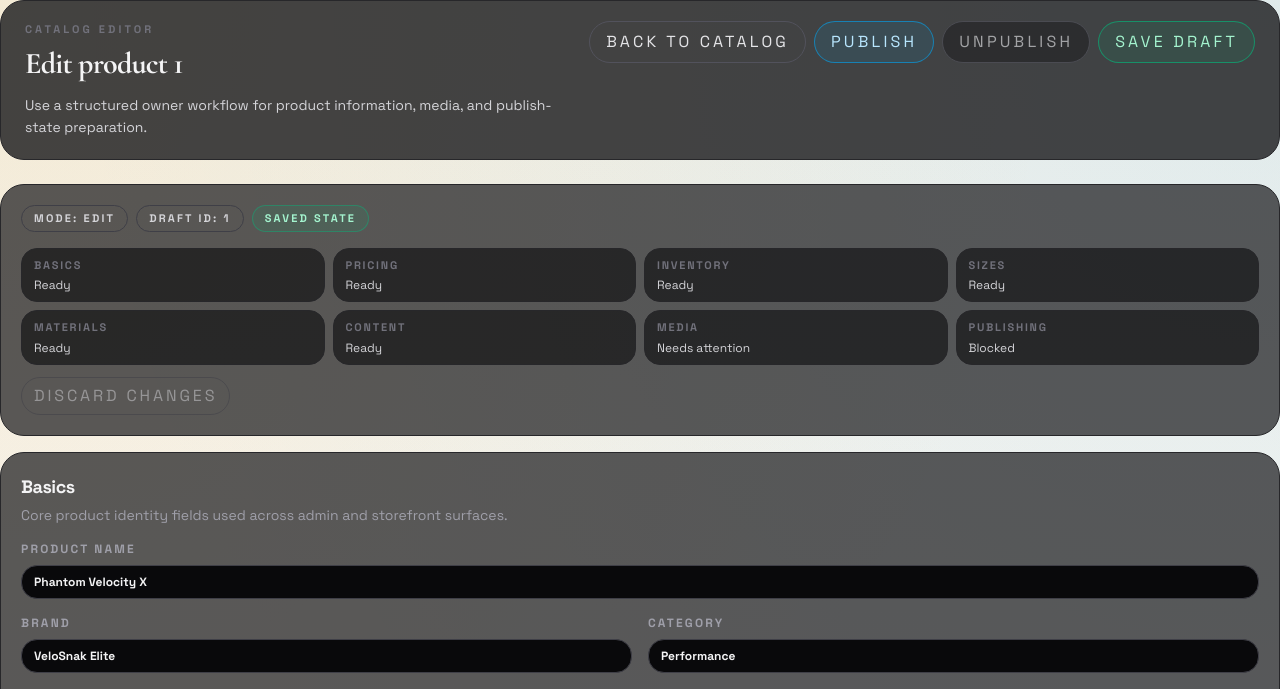
Test case: AdminCatalogEditorPage › blocks publishing when publish-readiness has blocking issues
This screenshot has width=1280, height=689.
Expected: the text "Draft ID: 1" is shown, [136,205,244,232]
Step 1. Click the button "Publish" → click(874, 42), box [814,21,934,63]
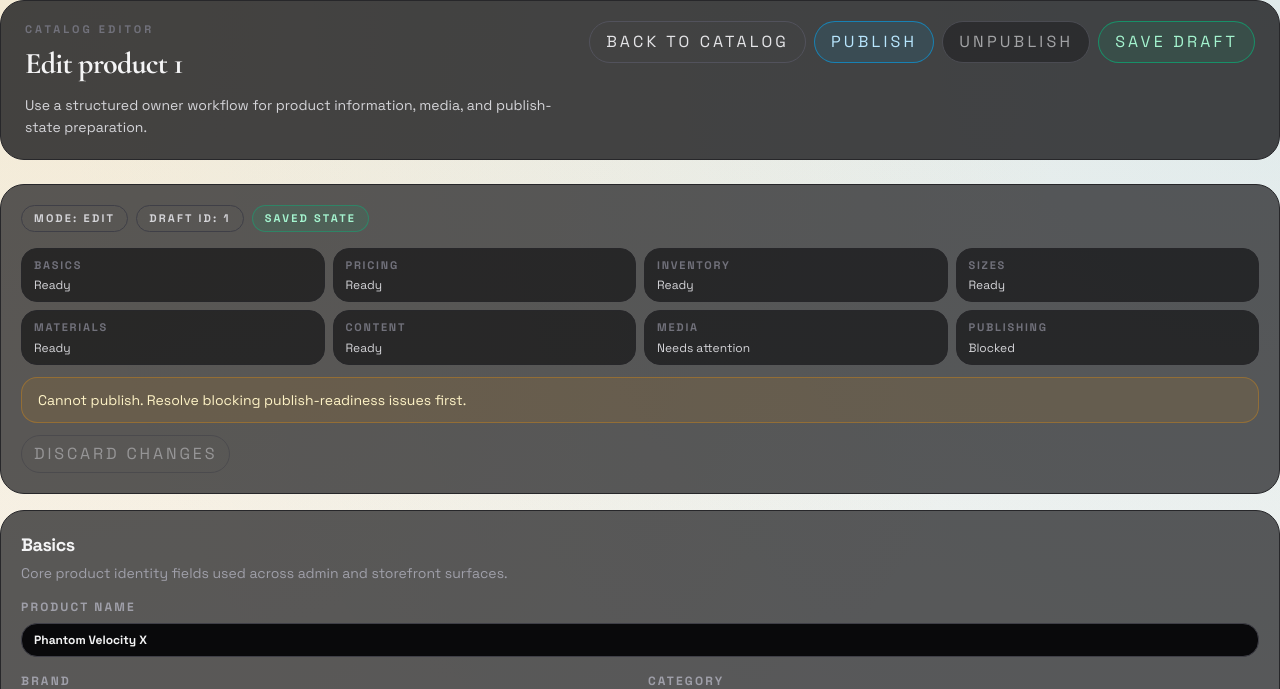
Expected: the text "Cannot publish. Resolve blocking publish-readiness issues first." is shown, [21,376,1259,422]
